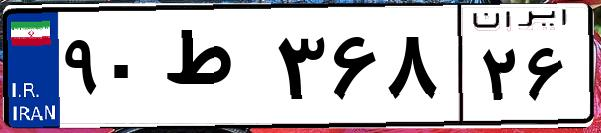0: (110, 28, 158, 98)
2: (475, 38, 525, 113)
3: (270, 28, 330, 110)
6: (330, 28, 385, 110), (525, 38, 570, 115)
8: (385, 28, 445, 110)
9: (57, 26, 110, 100)
ط: (158, 20, 270, 120)
